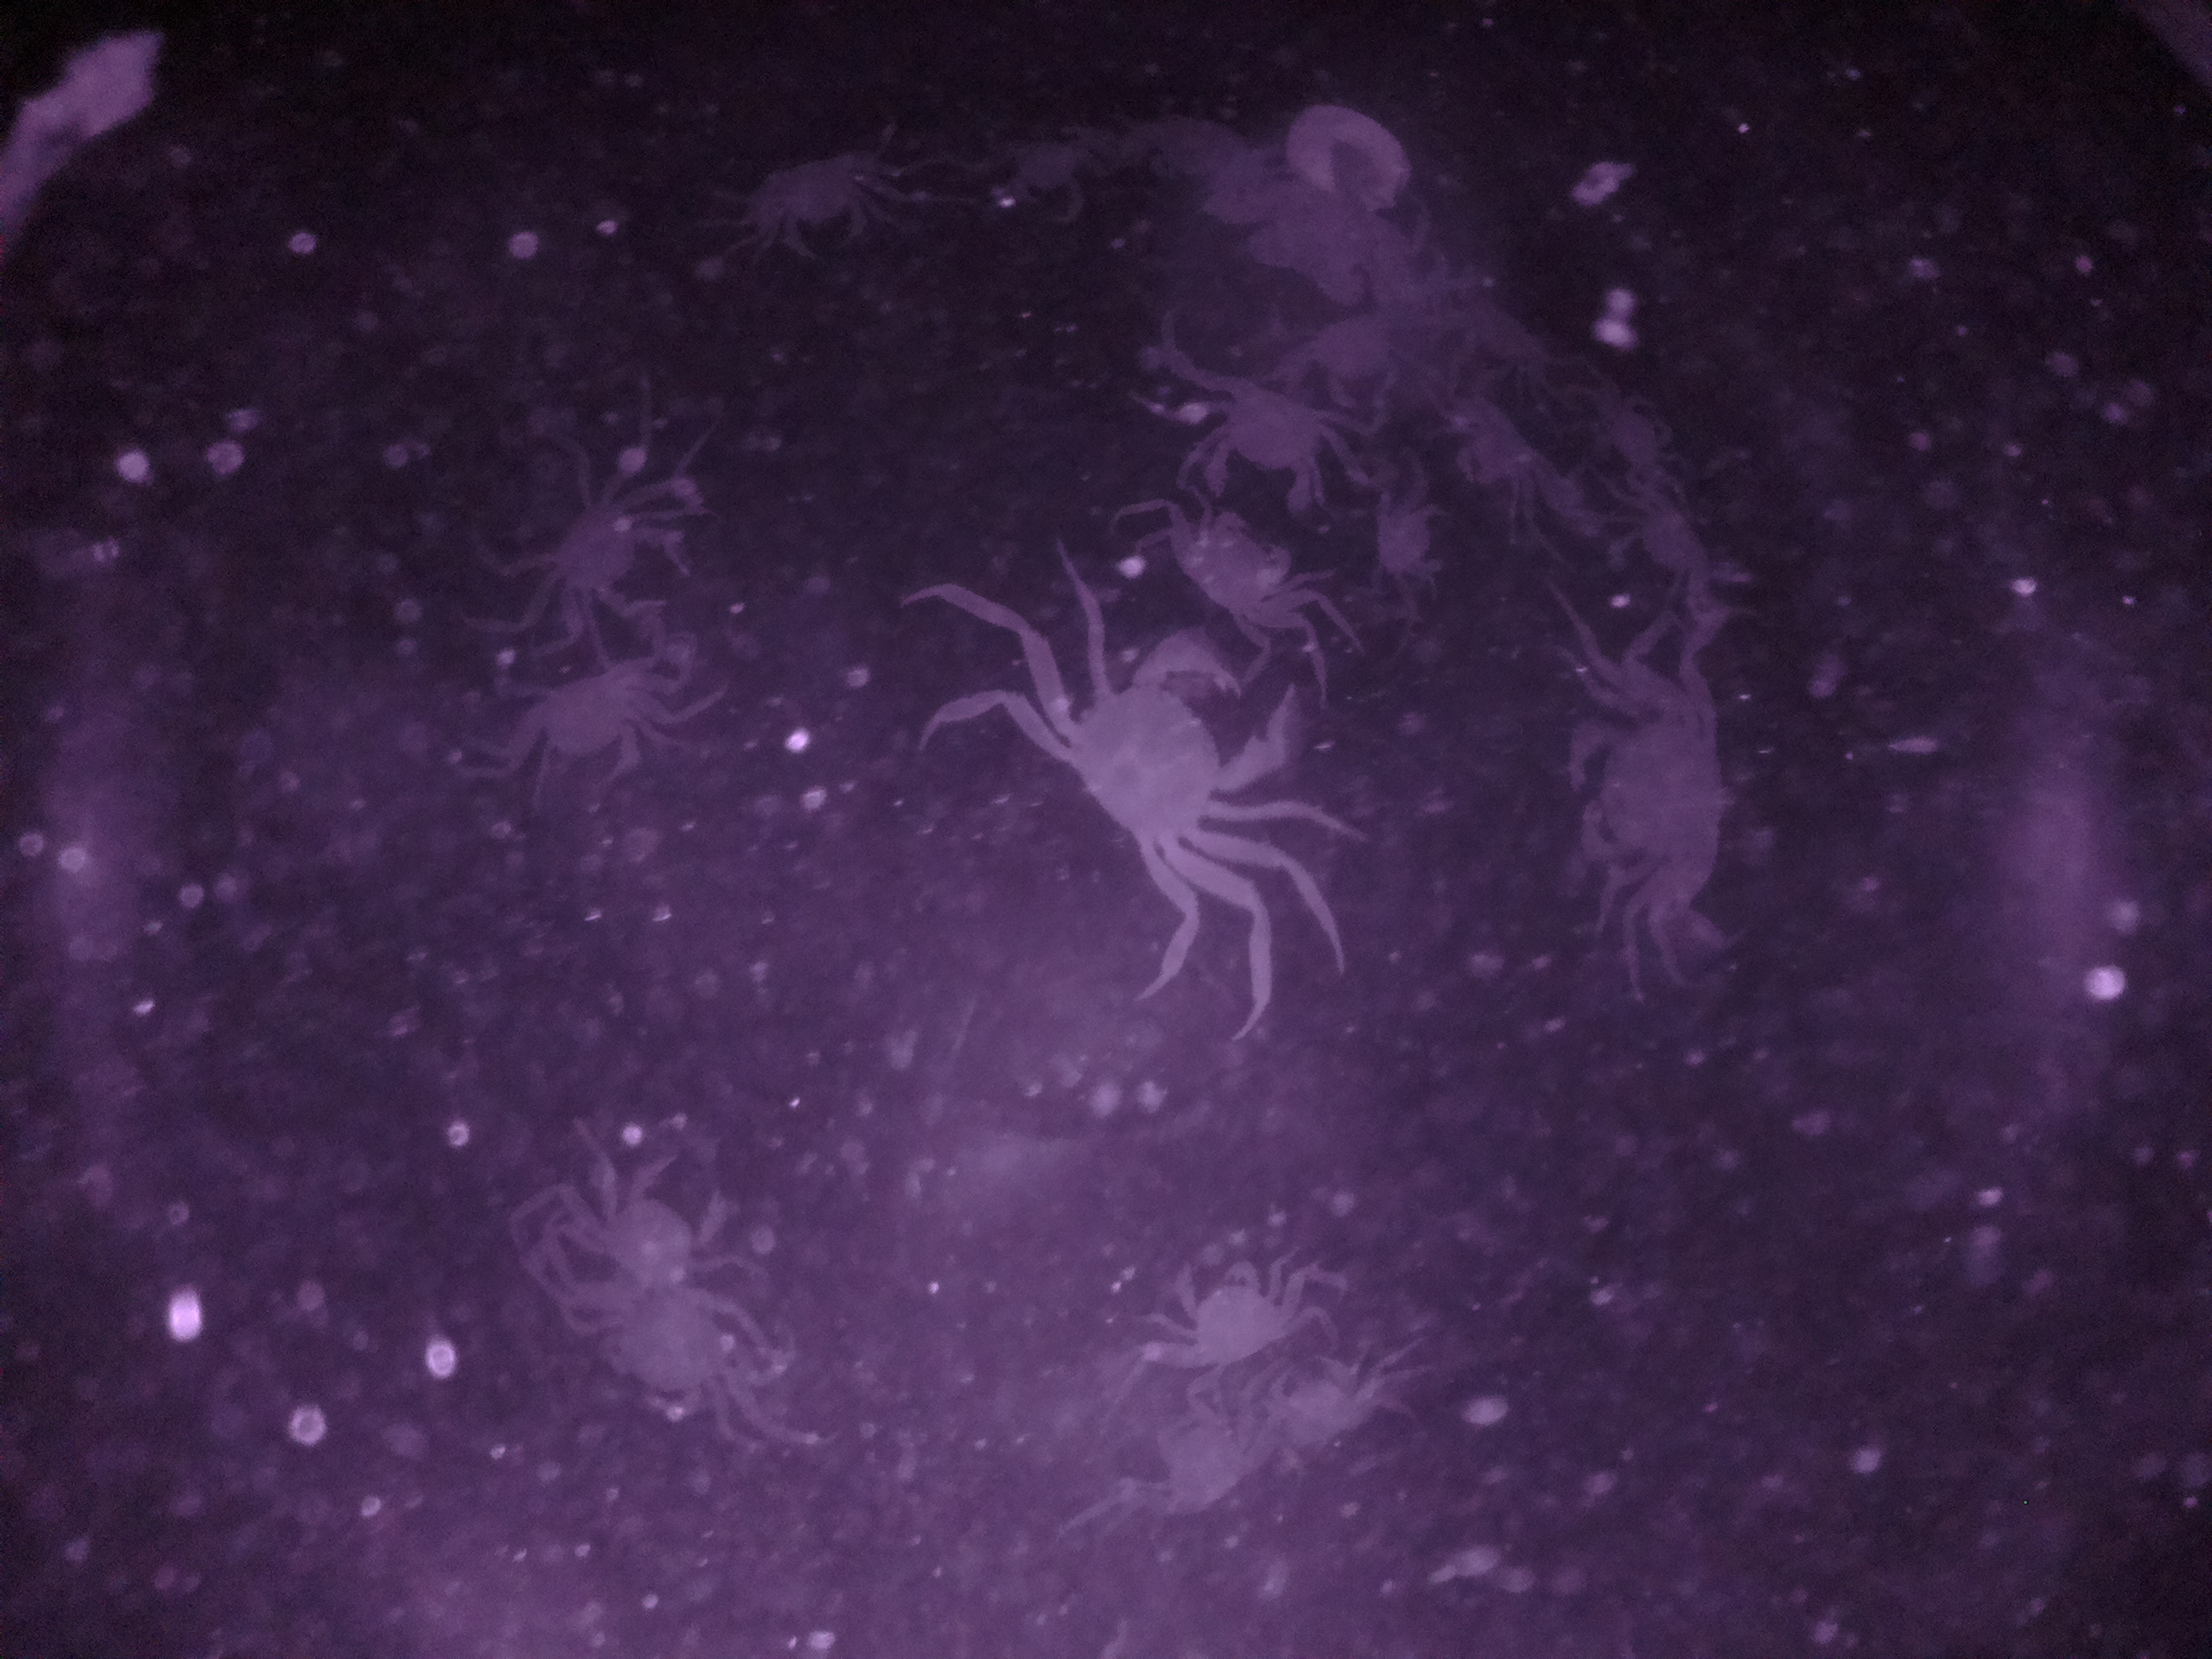Crab: (1029, 624, 1299, 899), (1557, 671, 1750, 918), (1153, 359, 1350, 509), (521, 484, 704, 629), (1144, 497, 1324, 638), (489, 660, 669, 788), (745, 132, 899, 281), (1139, 1249, 1312, 1375)
